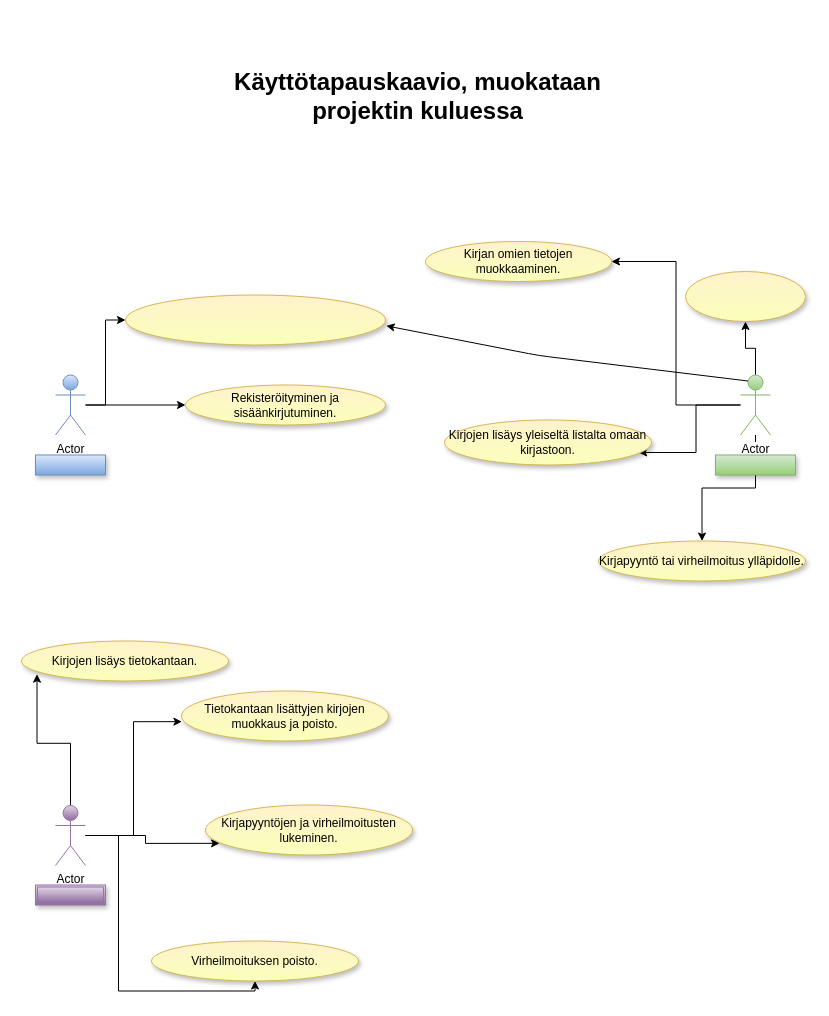
Some shapes in this 829 by 1016 pixel diagram are drawn without their labels. Each missing label, with the centre of its shape:
Jokamies: the point at 71,466
Kannassa olevien kirjojen haku eri hakusanoilla.: the point at 256,321
Kirjautunut: the point at 756,466
Oman kirjaston luominen.: the point at 746,297
Ylläpito: the point at 71,896
